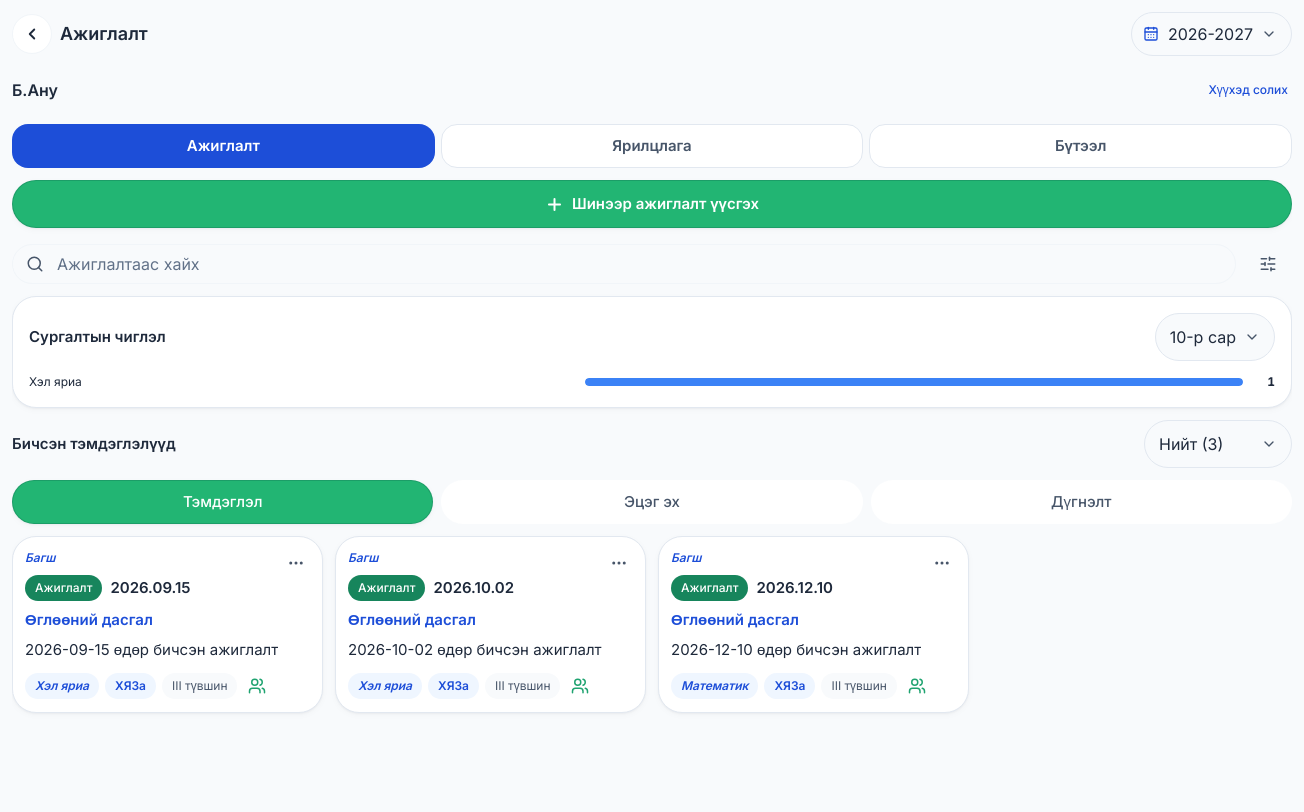
the record hub › keeps the family's notes in their own panel, and out of the teacher's
Expected: the text "2026-09-18 өдөр" is not shown
Expected: the dropdown named "Тэмдэглэлийн хугацаа" reads "Нийт (3)", [1144,420,1292,468]
Step 1. Click the tab "Эцэг эх" → (652, 502), box [441,480,863,524]
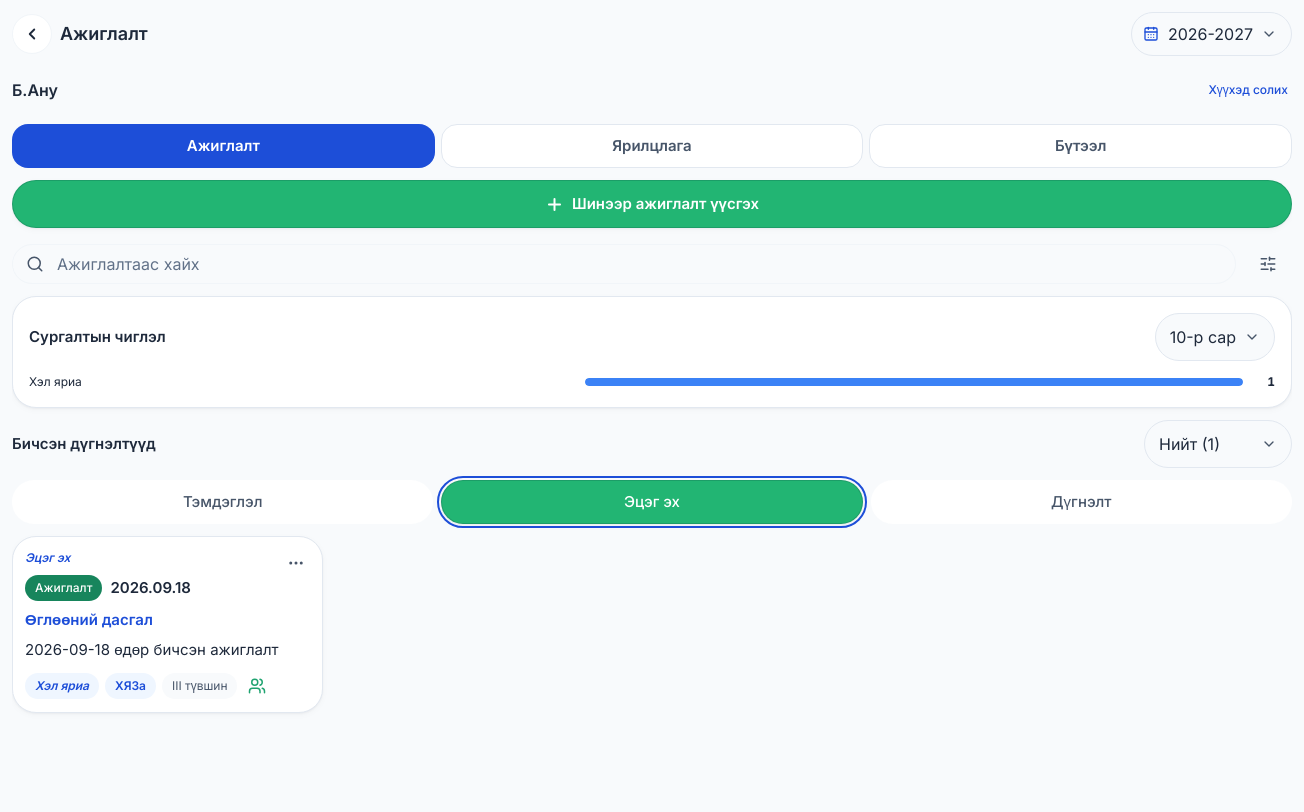
Expected: the text "2026-09-18 өдөр бичсэн ажиглалт" is shown, [25,640,279,660]
Expected: the button "2026-09-15 өдөр" is gone
Expected: the dropdown named "Тэмдэглэлийн хугацаа" reads "Нийт (1)", [1144,420,1292,468]
